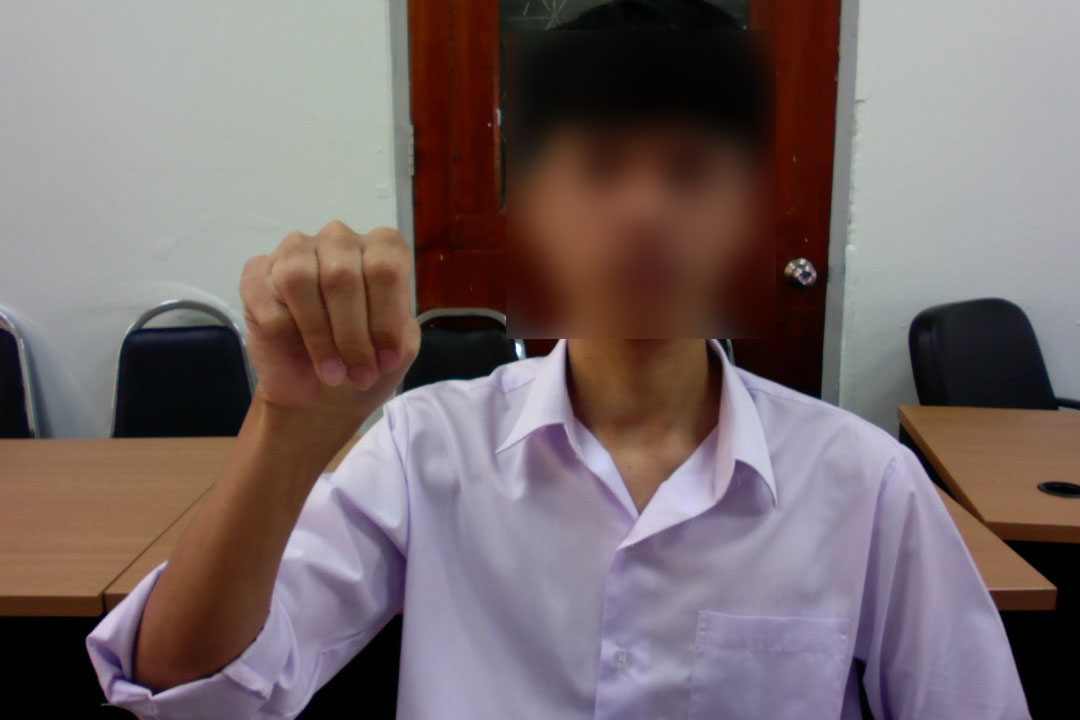mor: (229, 211, 428, 437)
